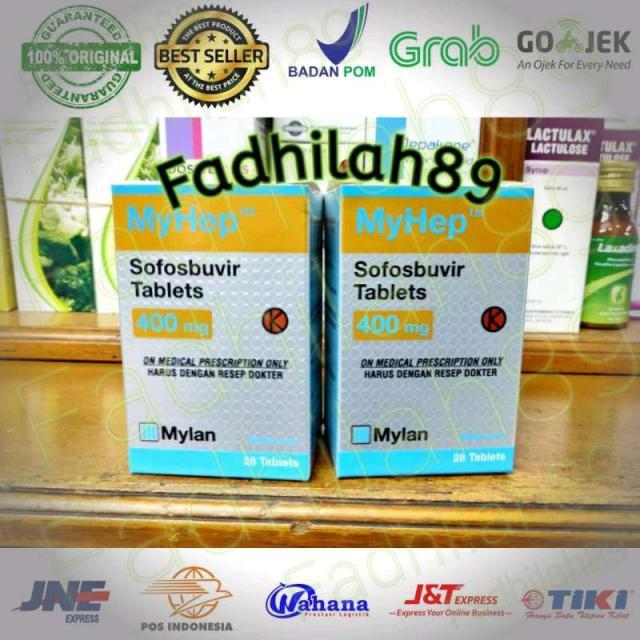drug-name: (128, 254, 243, 280)
